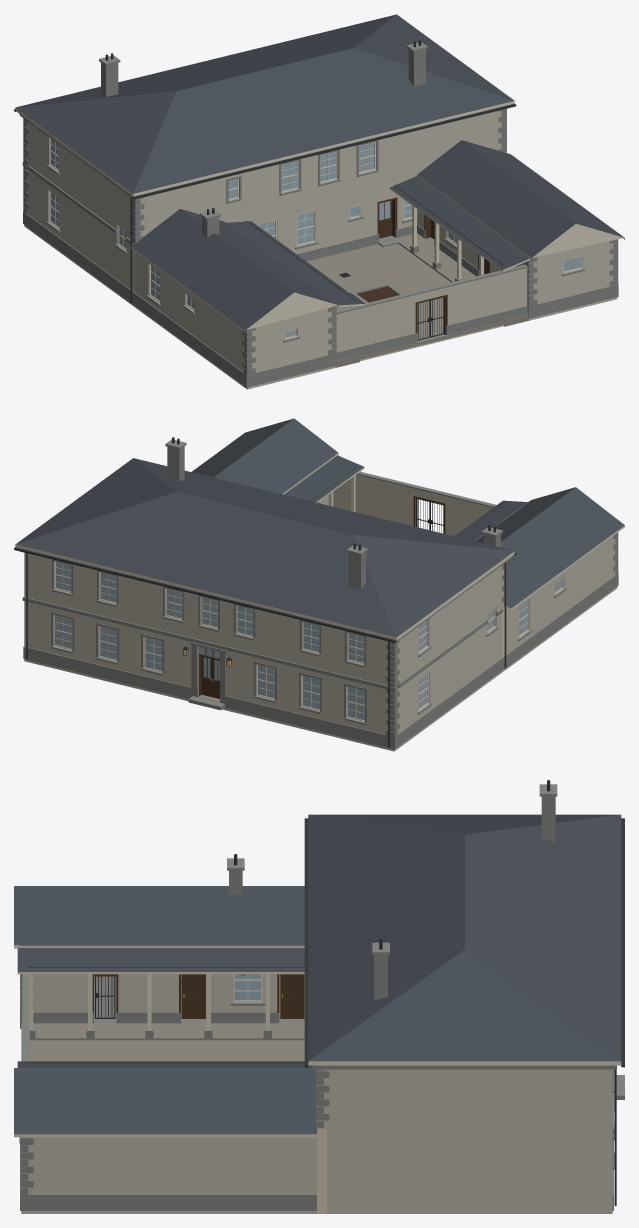
The model's file is PoliceStation.fbx.
3 views of the same model, one above another, from view 1: azimuth 30°, elevation 25°; view 2: azimuth 150°, elevation 25°; view 3: azimuth 270°, elevation 25° (orthographic). The views are drawn at different scales.
Parts seen in each view (by area): view 1: Ext_Roof, Ext_Facade, Ext_Court, Glass, Ext_Windows, Ext_Loggia, Furn_court-planter; view 2: Ext_Roof, Ext_Facade, Glass, Ext_Windows, Ext_Loggia, Leaf_front-door_0; view 3: Ext_Roof, Ext_Facade, Ext_Court, Ext_Loggia, Leaf_duty-door_0, Leaf_evidence-door_0, Int_Floors, Int_Walls, Glass.
Part boxes in pixels (x1,y1,x2,y2): Ext_Roof: (14,14,624,332); Ext_Facade: (19,108,618,389); Ext_Court: (307,233,528,367); Glass: (50,138,580,337); Ext_Windows: (49,138,582,339); Ext_Loggia: (245,184,530,307); Furn_court-planter: (350,283,402,303); Ext_Roof: (14,418,624,747); Ext_Facade: (21,455,618,751); Glass: (55,562,562,720); Ext_Windows: (53,498,563,721); Ext_Loggia: (310,467,505,536); Leaf_front-door_0: (201,656,212,696); Ext_Roof: (14,780,624,1206); Ext_Facade: (19,945,624,1213); Ext_Court: (21,1023,304,1061); Ext_Loggia: (17,967,304,1063); Leaf_duty-door_0: (280,974,304,1018); Leaf_evidence-door_0: (181,974,205,1018); Int_Floors: (94,974,304,1017); Int_Walls: (317,1129,326,1213); Glass: (234,974,261,1000).
Bounding box in the file's own units: 2370 × 1037 × 2480.
